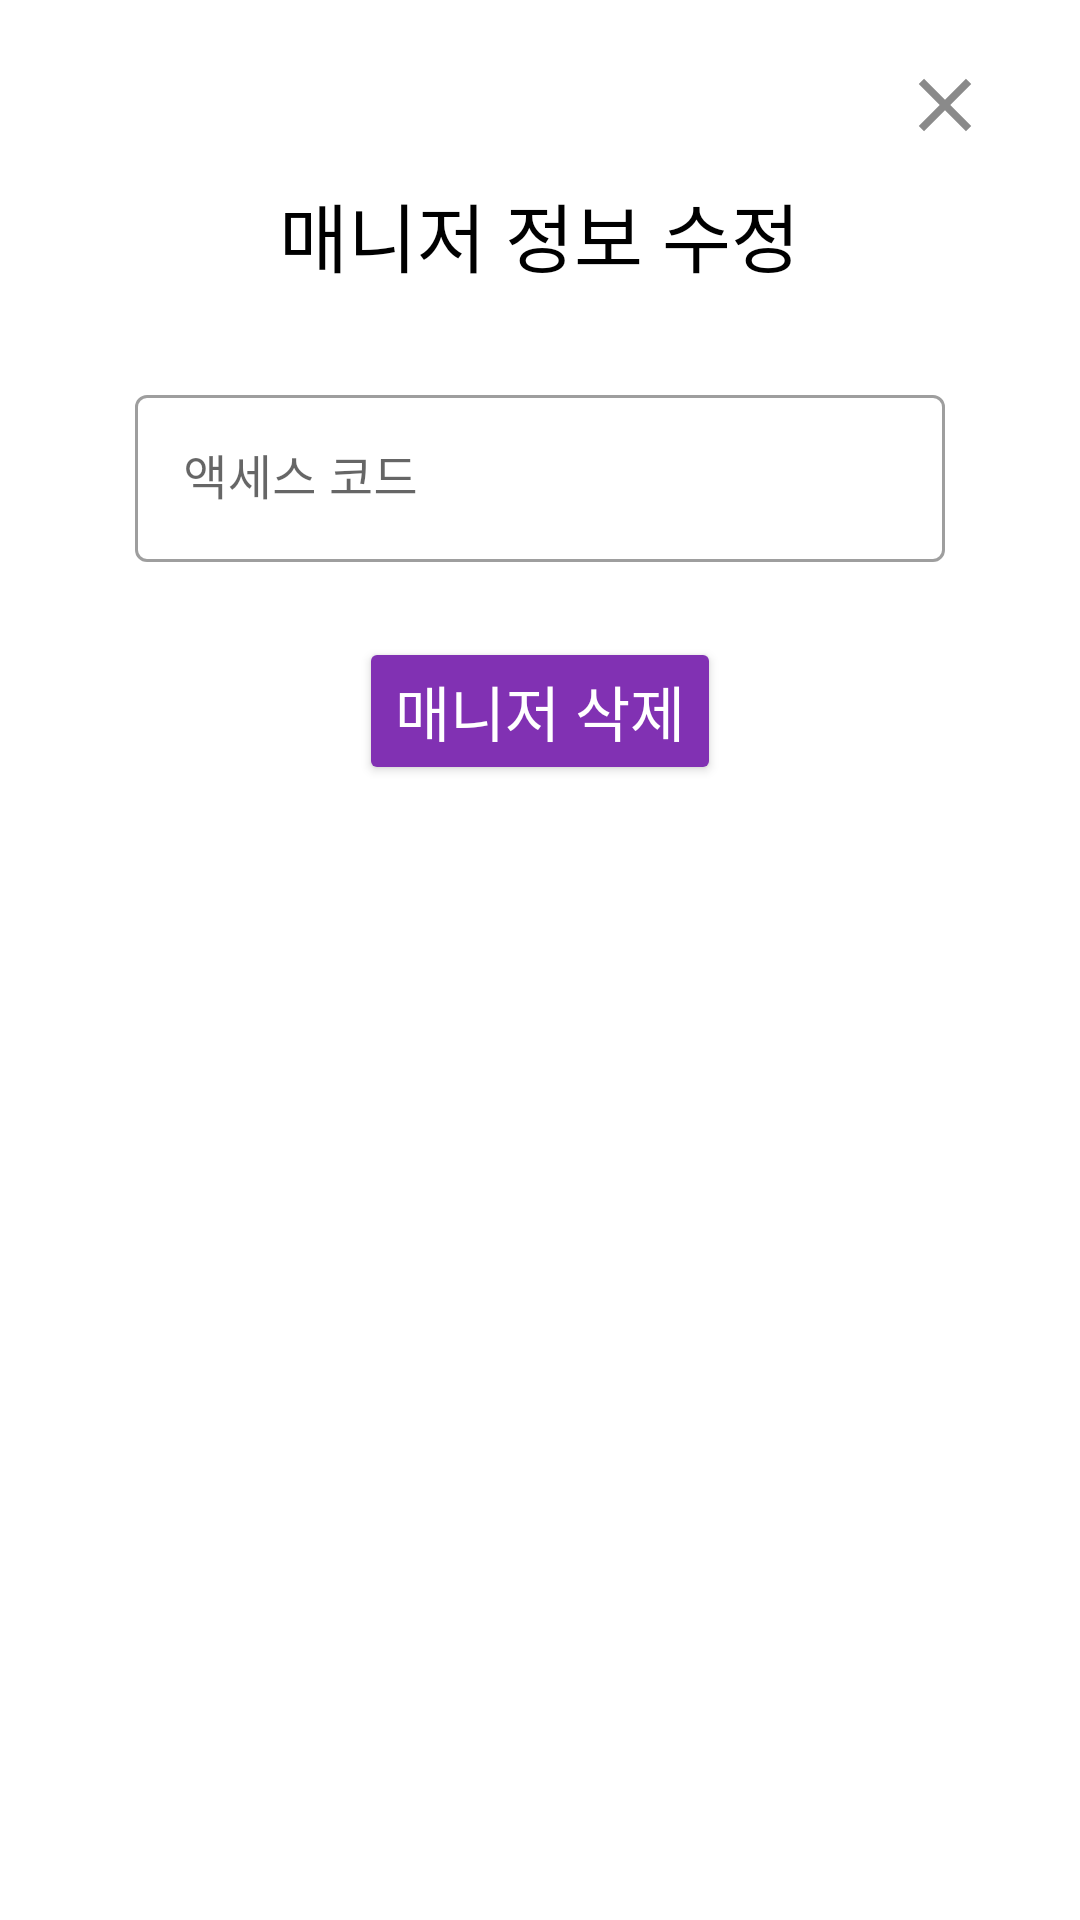

Where icons sit on this 1080x1920 app screen, as (x1, y1, x2, y2):
close: (919, 79, 971, 131)
